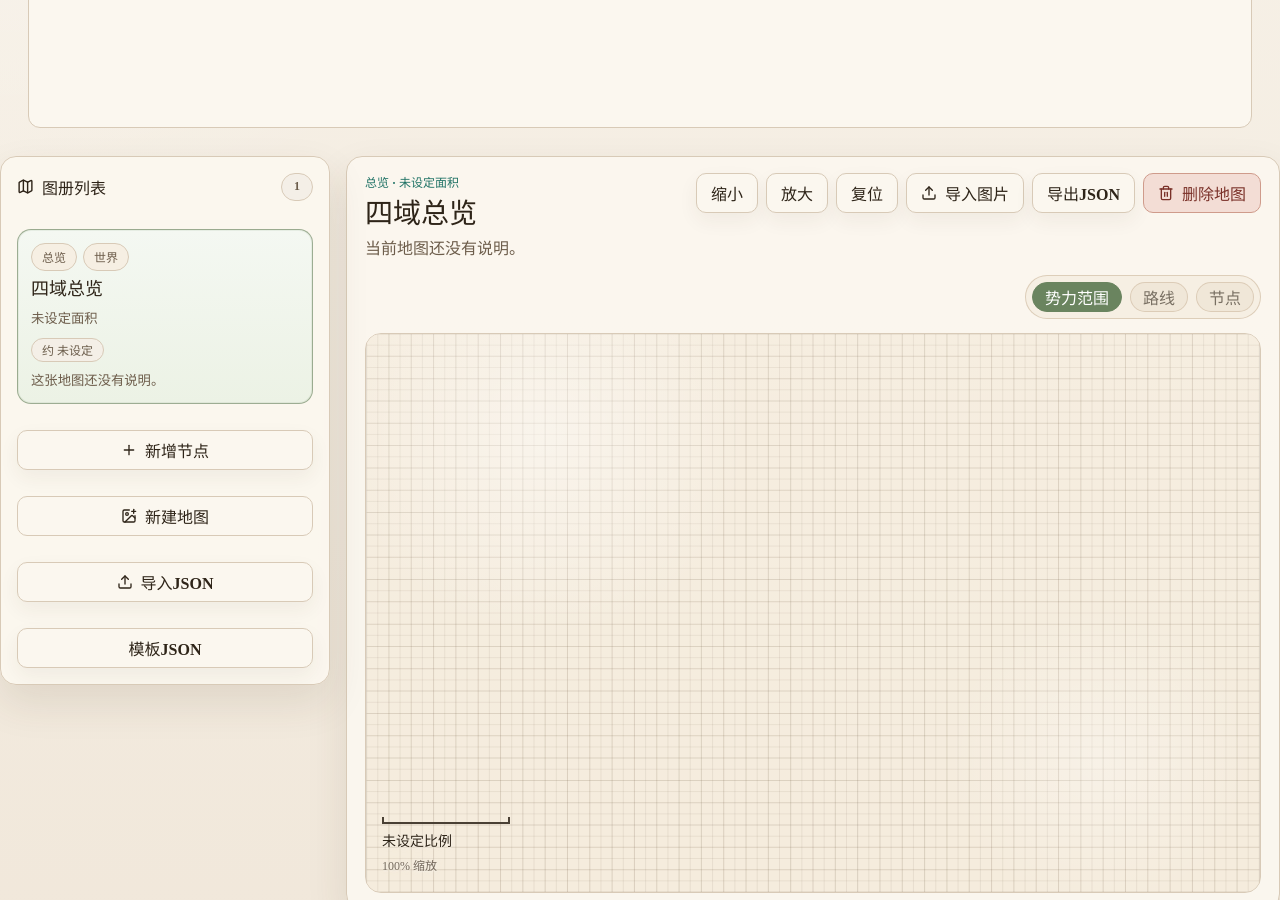
Test: MapWorkspace › keeps the new node form focused on essential fields
(page scrolled)
Click the button "新增节点". click: {"x": 165, "y": 450}
box: left=17, top=430, right=313, bottom=470
(page scrolled)
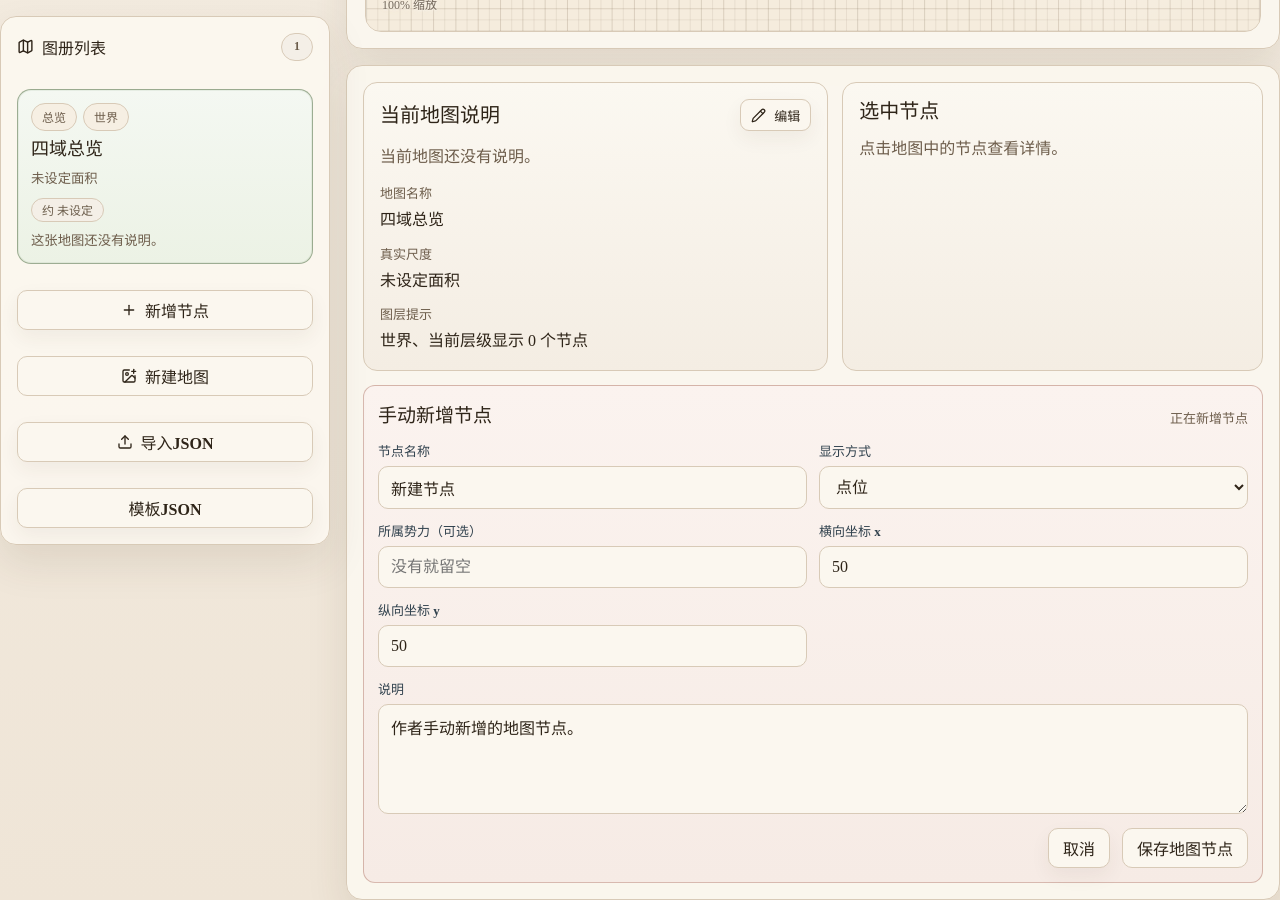
Result: the field labelled "节点名称" is shown at left=378, top=466, right=807, bottom=509
Result: the dropdown labelled "显示方式" is shown at left=819, top=466, right=1248, bottom=509
Result: the field labelled "所属势力（可选）" is shown at left=378, top=546, right=807, bottom=588
